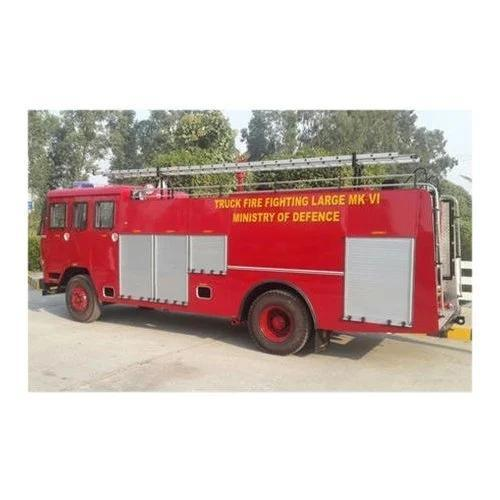Fire-engine: (41, 147, 463, 357), (116, 144, 423, 183), (240, 196, 264, 211)
